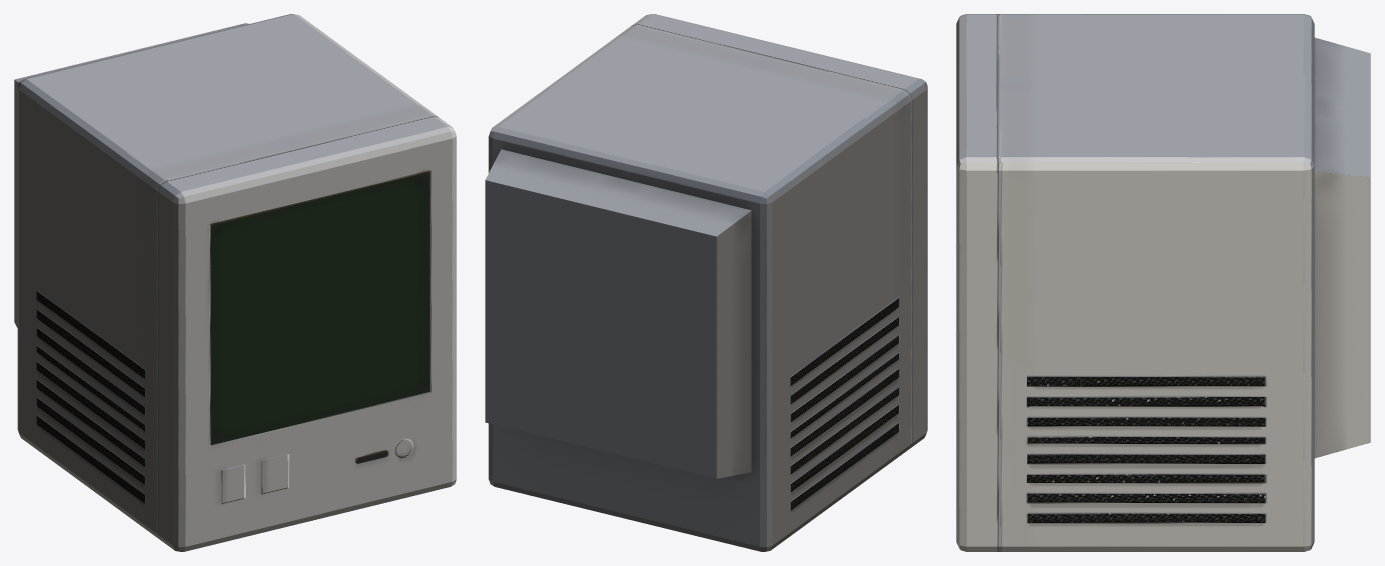
File: Computer_001.fbx
3 views of the same model, side by side, from view 1: azimuth 30°, elevation 25°; view 2: azimuth 150°, elevation 25°; view 3: azimuth 270°, elevation 25° (orthographic). The views are drawn at different scales.
Visible parts, largest first — view 1: Computer_001; view 2: Computer_001; view 3: Computer_001.
Part boxes in pixels (x1,y1,x2,y2): Computer_001: [14, 14, 456, 551]; Computer_001: [485, 14, 927, 551]; Computer_001: [956, 14, 1370, 551].
Bounding box in the file's own units: 38.85 × 47.23 × 44.93.
1 material, 1 textured.
